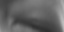RightEyeFatigue: (6, 6, 62, 32)
